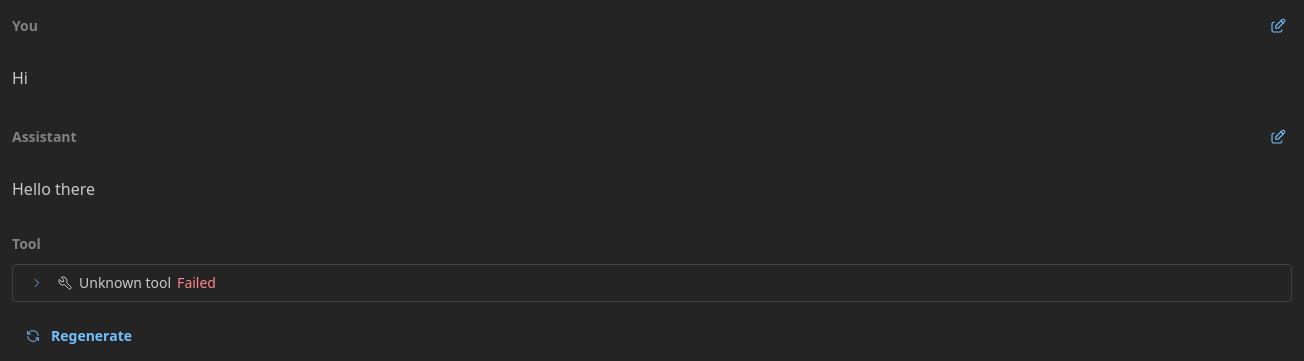
Test: ZoneList — in-place edit (D10) › blurring with the text unchanged makes no request and shows the original text — DoD-4
Click the button named "Edit message" in the row of "Assistant": (1278, 137) [1264,123,1292,151]
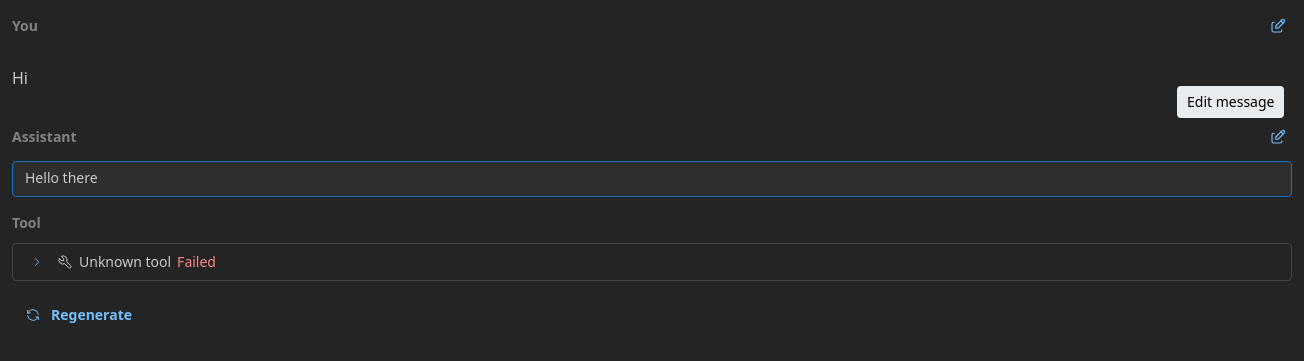
Leave the text box named "Edit message text", box [12,161,1292,197]
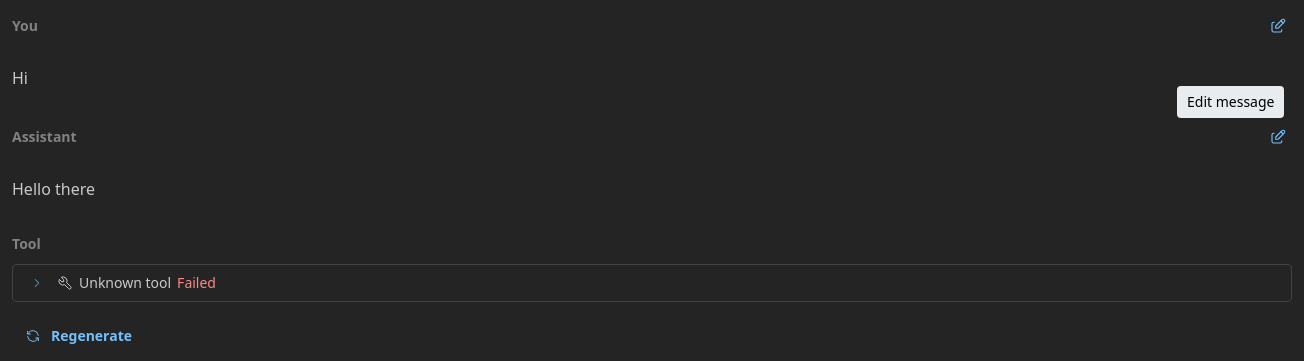
Expected: the list item "Assistant Hello there" is shown, [12,123,1292,218]
